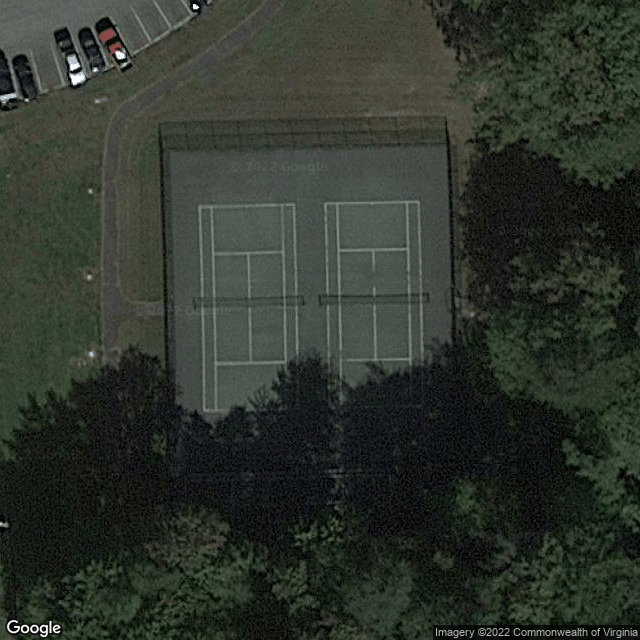Court: (194, 202, 298, 415), (322, 200, 425, 409)
